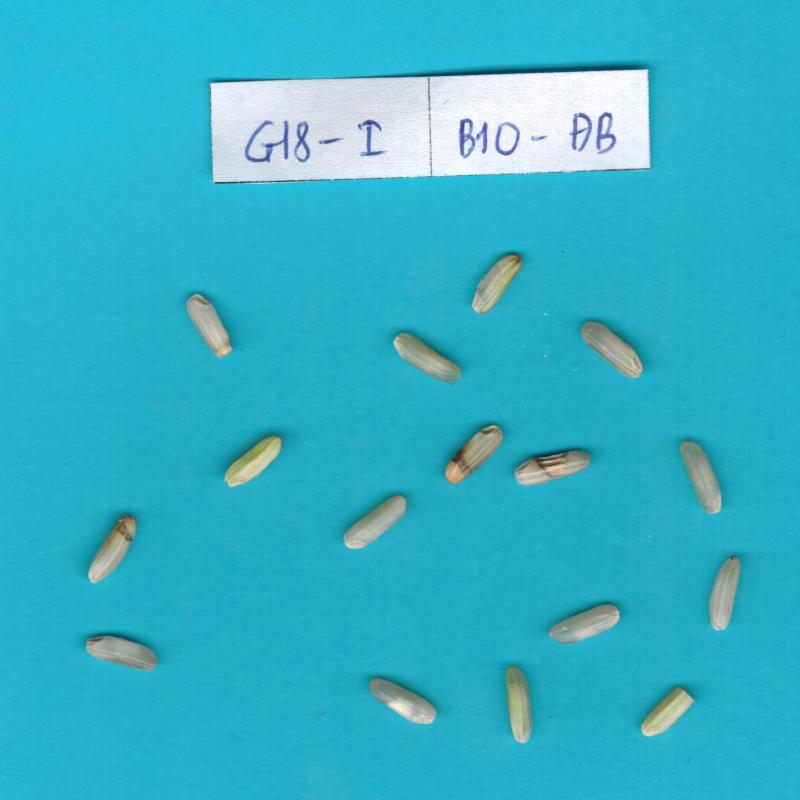Break: (641, 686, 695, 737)
Inferior: (446, 425, 503, 485), (88, 515, 137, 583), (186, 294, 233, 359), (224, 436, 282, 488), (514, 450, 590, 486), (506, 667, 533, 743)
Rice: (582, 322, 642, 379), (344, 495, 406, 549), (393, 333, 459, 382), (369, 679, 436, 724), (680, 441, 721, 513), (472, 255, 521, 314), (549, 605, 619, 643), (86, 636, 157, 671), (709, 556, 740, 631)
